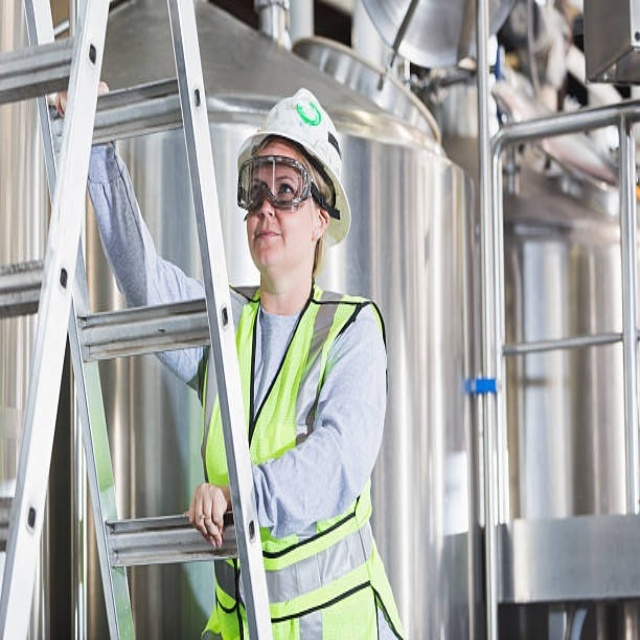Gafas: (238, 156, 330, 214)
Sin_guantes: (186, 482, 231, 547)
Sin_mascara: (249, 221, 289, 264)
